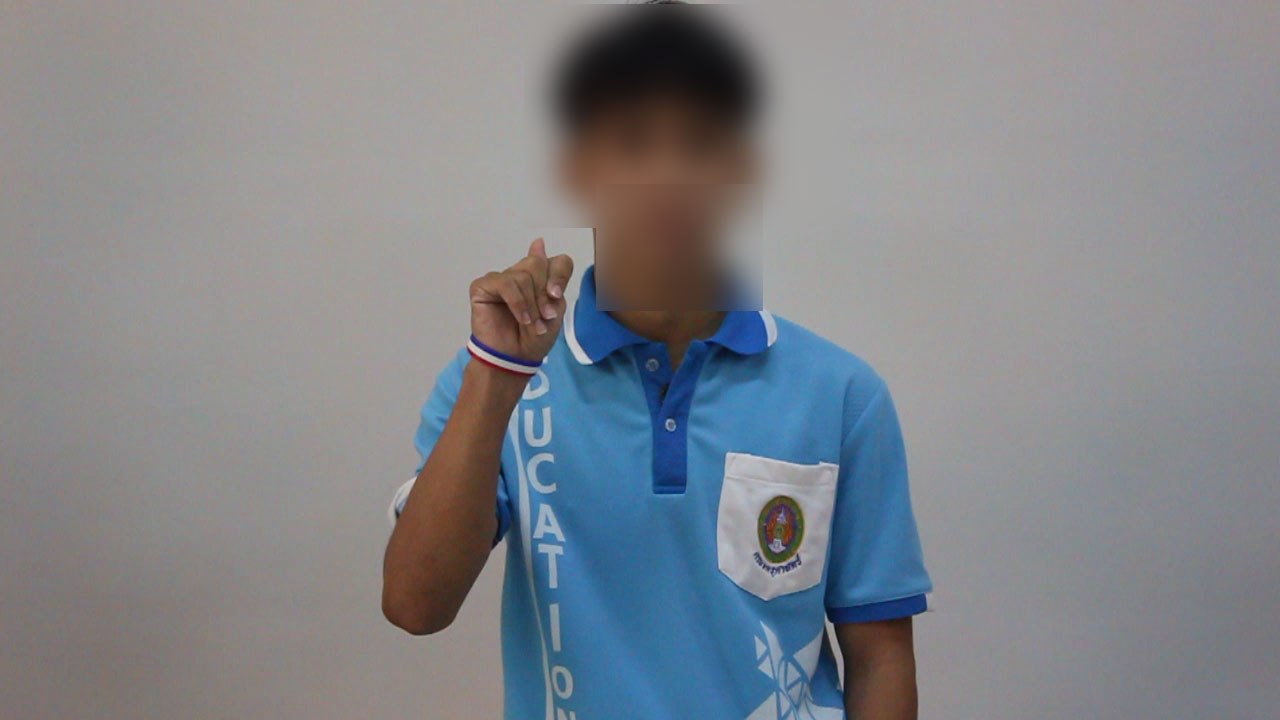tor: (444, 230, 590, 407)
